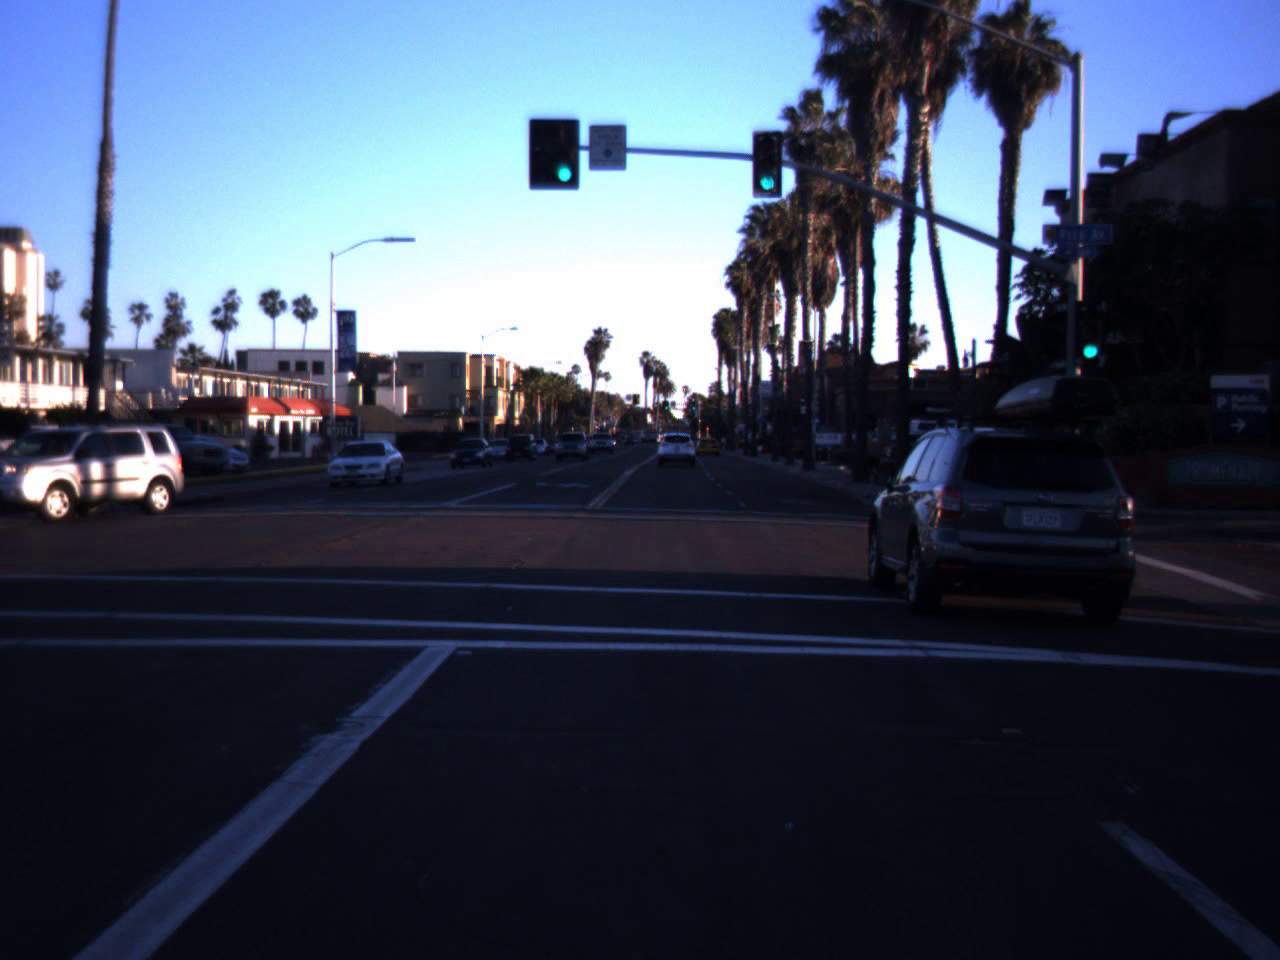go: (548, 122, 581, 187), (751, 144, 784, 194), (1074, 312, 1107, 362)
